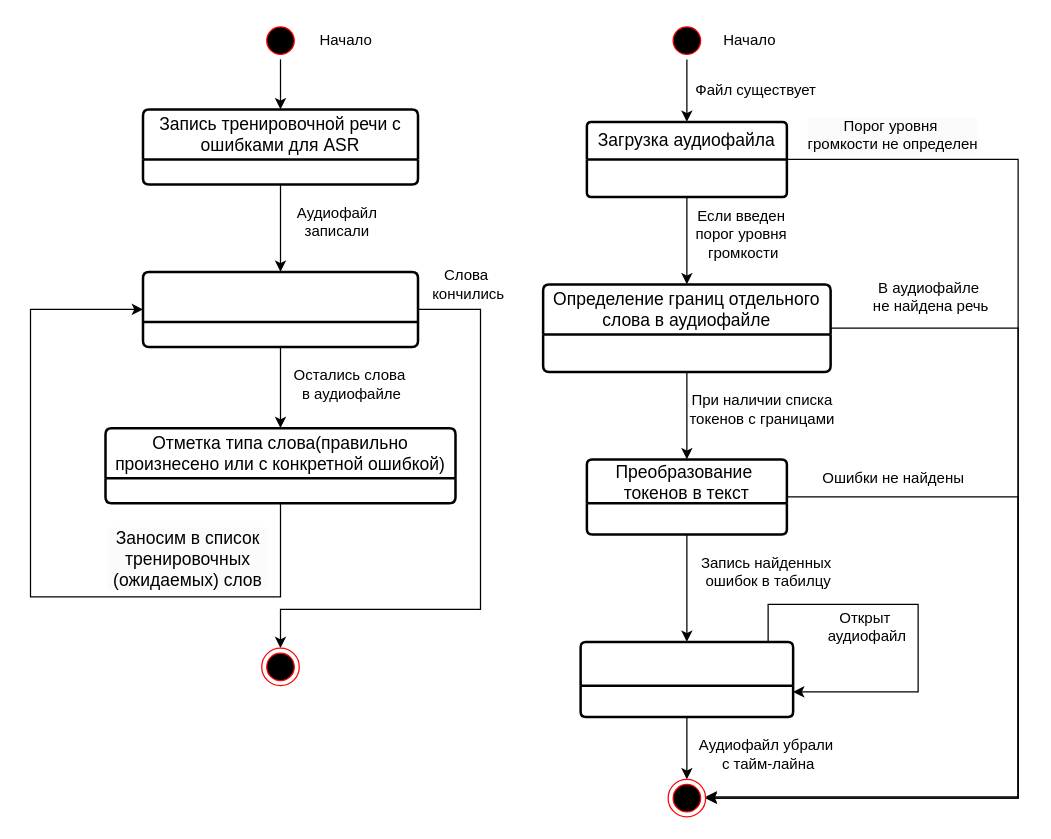
Some shapes in this 1051 by 839 pixel diagram are drawn without their labels. Here are the shapes that lost their labels. From the top down, the centre of each, then its label:
point 280,309: Вычленение очередного слово из аудиофайла
point 686,679: Отображение ошибок на тайм-лайне
